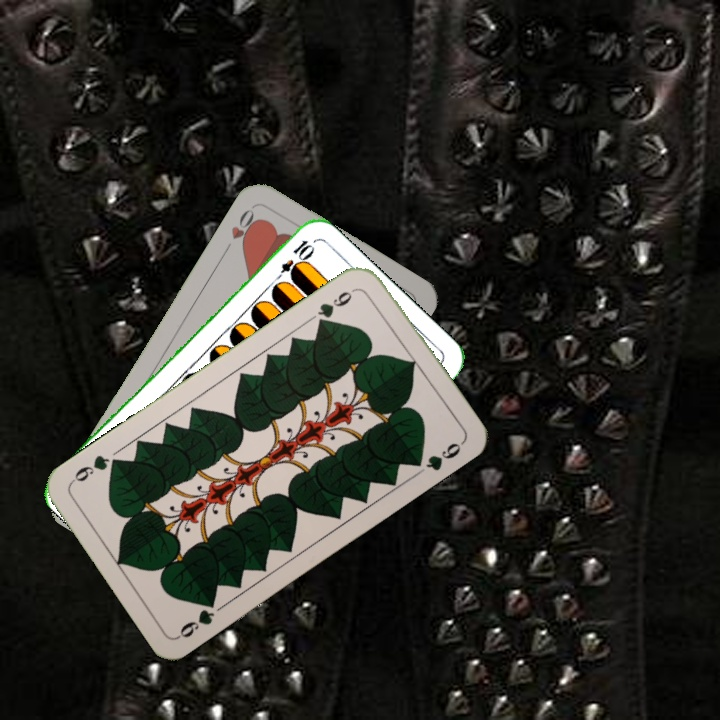E10: (269, 236, 316, 287)
G9: (173, 593, 219, 641), (313, 284, 360, 329)
HO: (220, 204, 263, 256)
